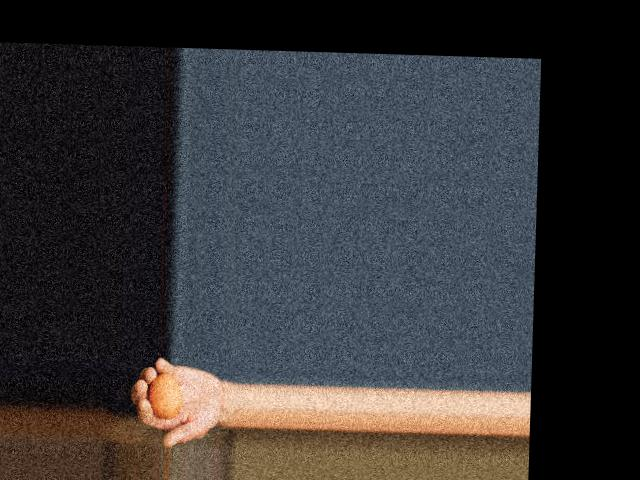egg: (149, 372, 183, 418)
